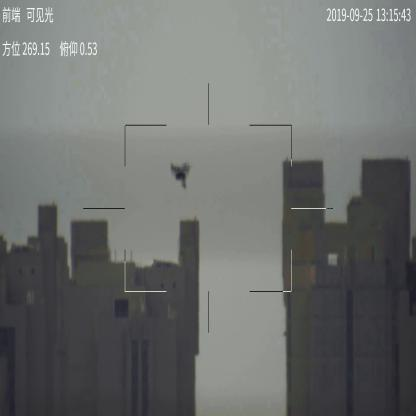uav: (166, 162, 192, 190)
